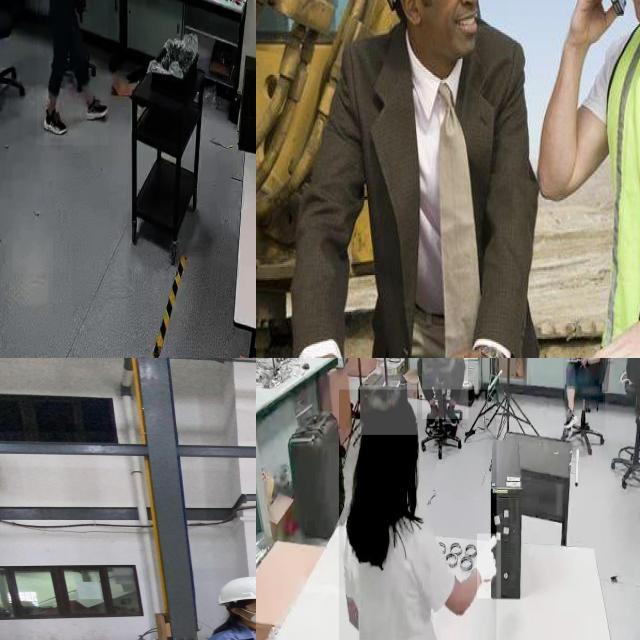face_mask: (240, 598, 256, 624)
face_nomask: (427, 0, 490, 49)
glasses: (239, 598, 256, 612)
hand_glove: (477, 534, 501, 598)
hand_noglove: (565, 0, 631, 43), (573, 316, 640, 358), (437, 344, 507, 358), (577, 358, 588, 367)
head_helmet: (214, 575, 256, 605)
head_nohelmet: (360, 385, 418, 436)
person: (304, 0, 544, 358), (339, 389, 497, 640), (538, 0, 640, 358), (37, 0, 109, 146), (562, 358, 605, 430), (421, 358, 468, 419)
shoes: (40, 99, 70, 138), (84, 90, 110, 126), (445, 397, 460, 431), (426, 398, 439, 430), (563, 404, 578, 429)
